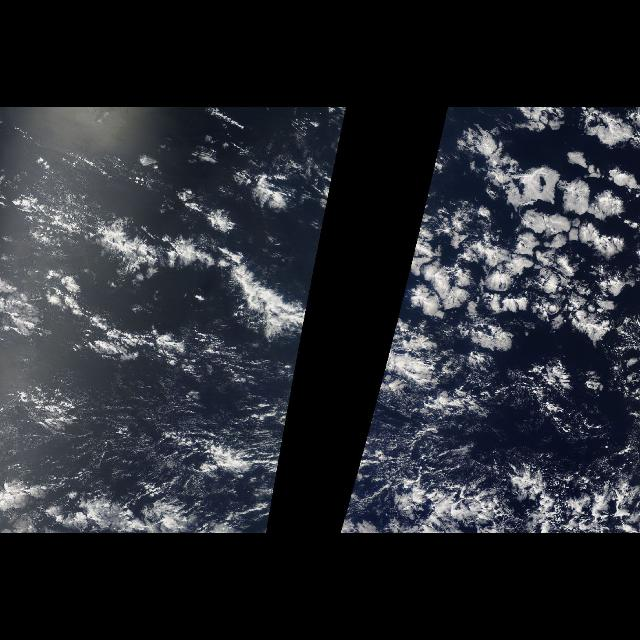Flower: (421, 108, 639, 388)
Sugar: (2, 359, 298, 505), (346, 374, 389, 506)
